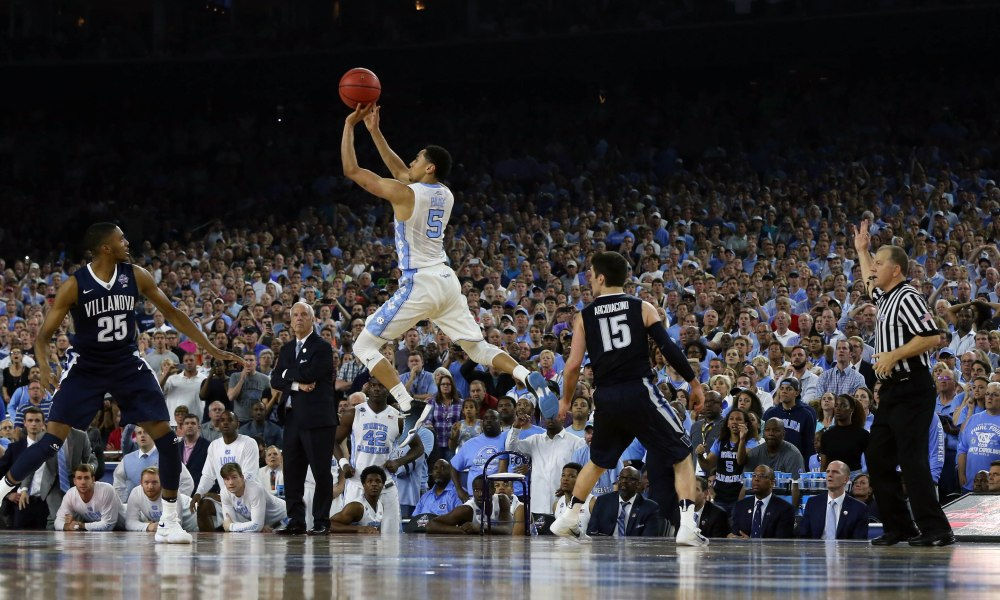ball: (316, 49, 389, 113)
shoot: (313, 103, 569, 451)
